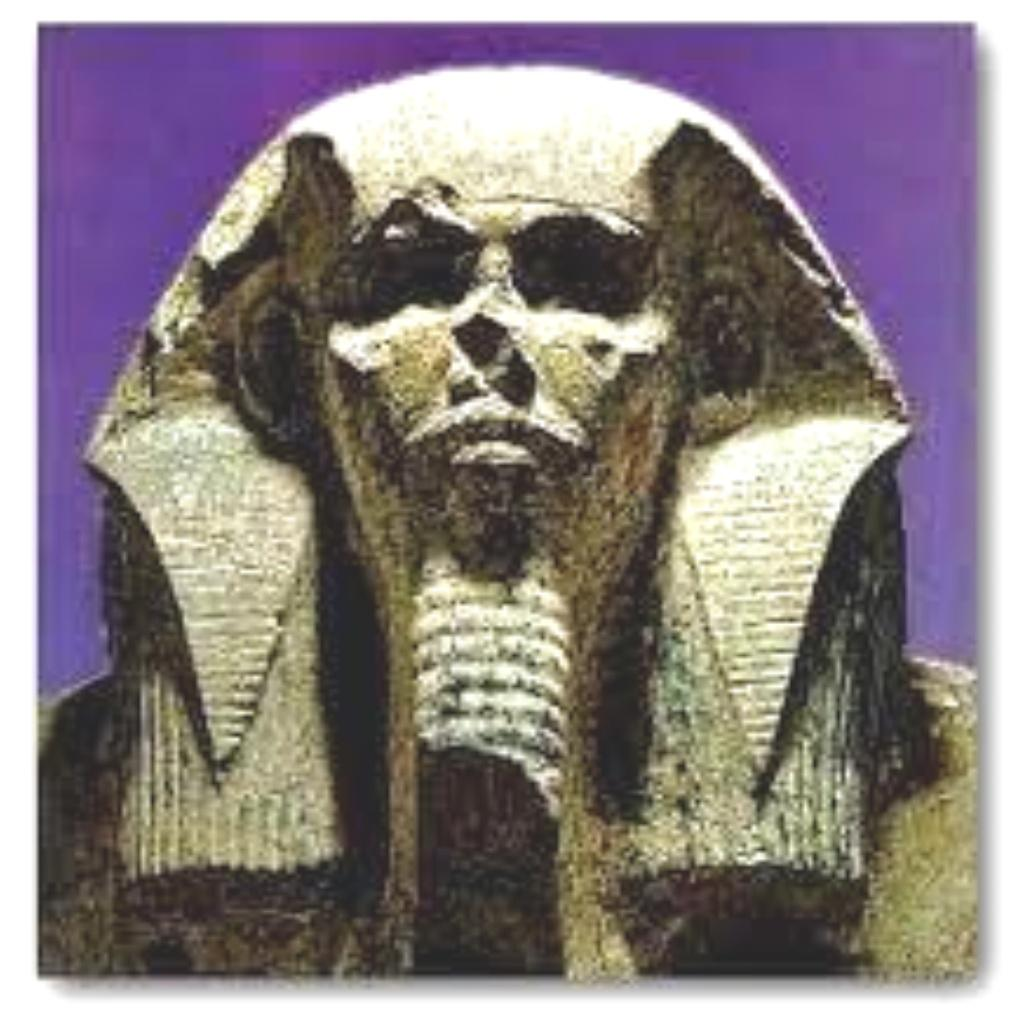Statue of King Zoser: (38, 58, 963, 980)
